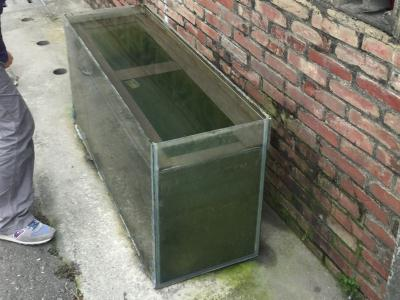aquarium: (57, 2, 273, 293)
